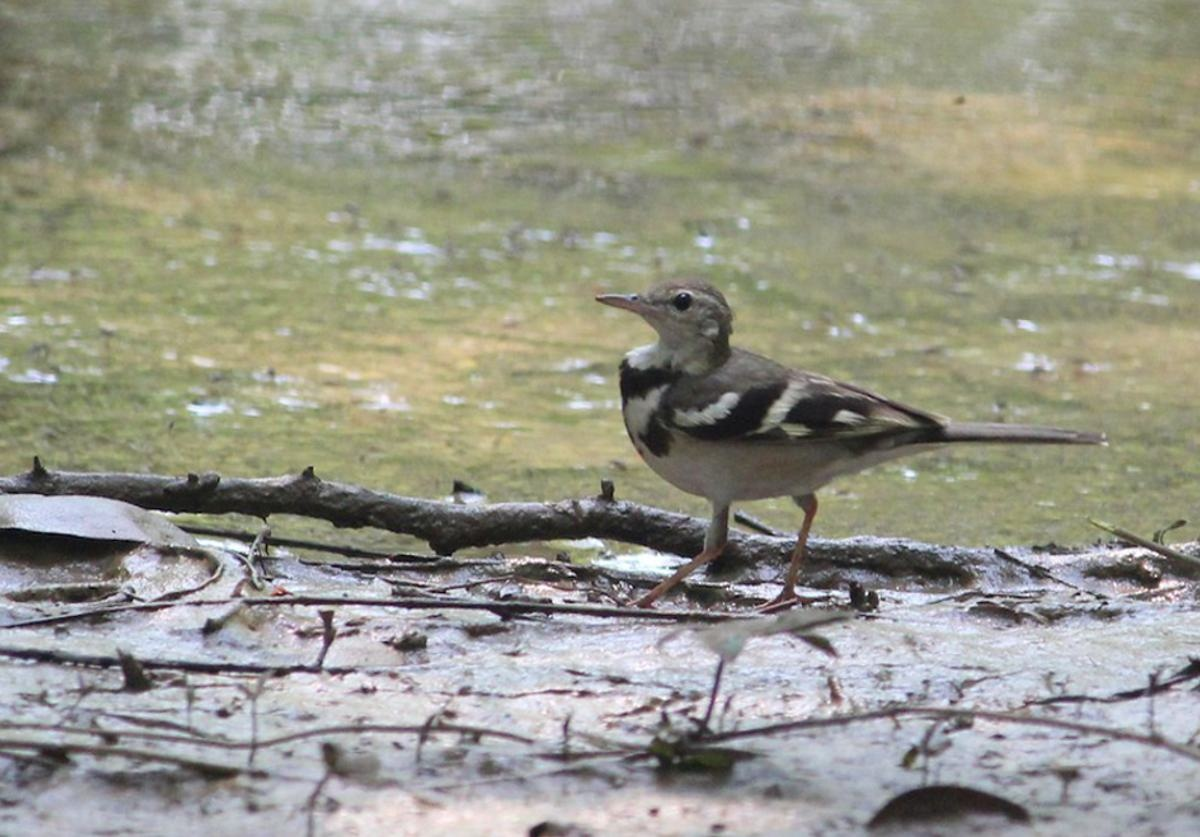wagtail: (590, 251, 1150, 610)
